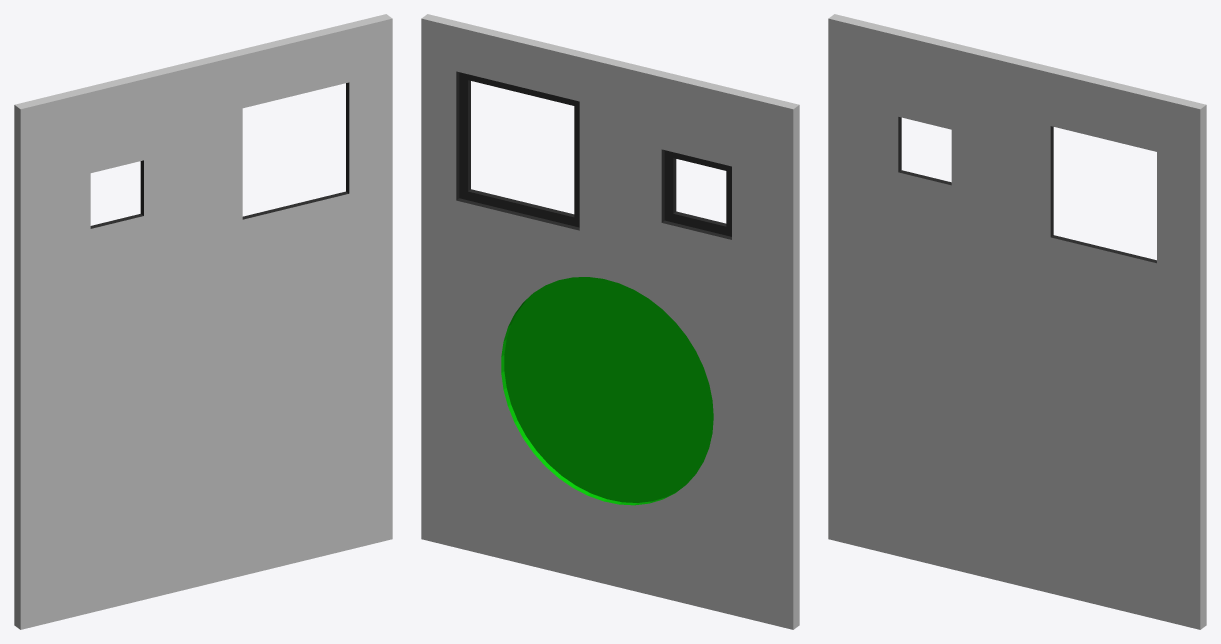
File: green_circle.dae
The picture shows the model from 3 angles, left to right: view 1: azimuth 30°, elevation 25°; view 2: azimuth 150°, elevation 25°; view 3: azimuth 330°, elevation 25°; orthographic projection.
Parts seen in each view (by area): view 1: ShapeIndexedFaceSet; view 2: ShapeIndexedFaceSet; view 3: ShapeIndexedFaceSet.
Part boxes in pixels (x1,y1,x2,y2): ShapeIndexedFaceSet: [14, 14, 392, 629]; ShapeIndexedFaceSet: [421, 14, 799, 629]; ShapeIndexedFaceSet: [828, 14, 1206, 629].
Bounding box in the file's own units: 1.75 × 0.0508 × 2.34.
